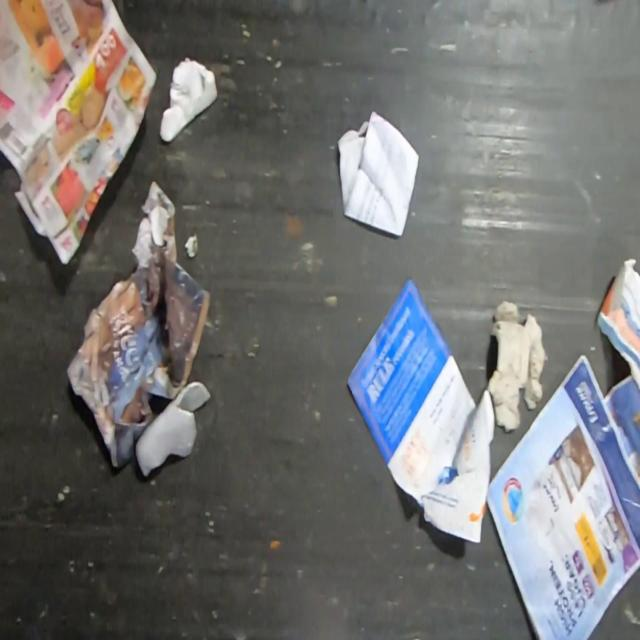cardboard: (157, 54, 220, 144)
